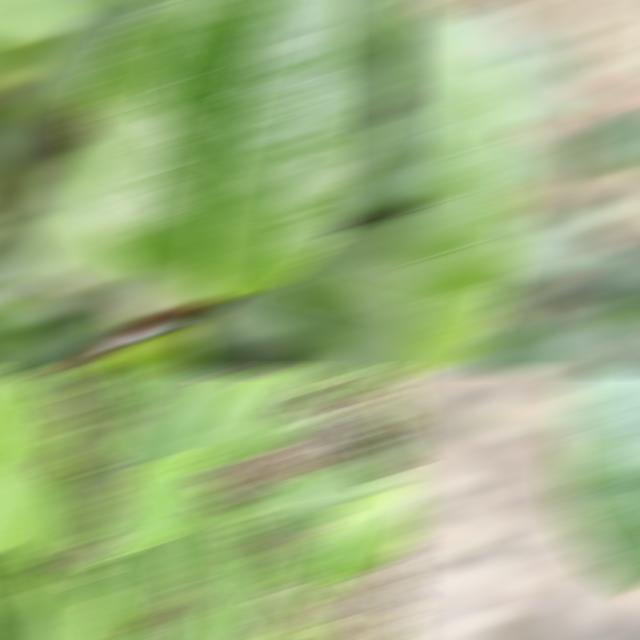Leaf: (73, 2, 390, 300), (400, 2, 530, 368), (268, 222, 418, 368), (555, 374, 640, 583), (174, 374, 315, 465), (276, 494, 418, 578), (92, 459, 208, 560), (0, 394, 69, 561), (175, 505, 254, 638), (116, 374, 212, 477), (232, 470, 395, 527), (115, 538, 186, 638), (174, 374, 260, 456), (347, 111, 418, 202), (0, 2, 117, 47), (0, 374, 67, 452), (501, 223, 604, 273), (296, 525, 358, 603), (222, 413, 326, 456), (571, 109, 640, 172), (227, 558, 273, 638), (0, 115, 36, 213), (500, 340, 616, 368), (95, 561, 141, 626), (48, 484, 96, 543), (69, 410, 119, 462), (101, 374, 156, 417), (0, 305, 36, 368), (377, 378, 418, 430), (175, 612, 234, 638), (601, 286, 640, 322), (95, 437, 140, 468), (138, 609, 185, 638), (353, 449, 398, 477), (314, 381, 364, 397), (299, 374, 346, 386), (377, 444, 413, 454)
